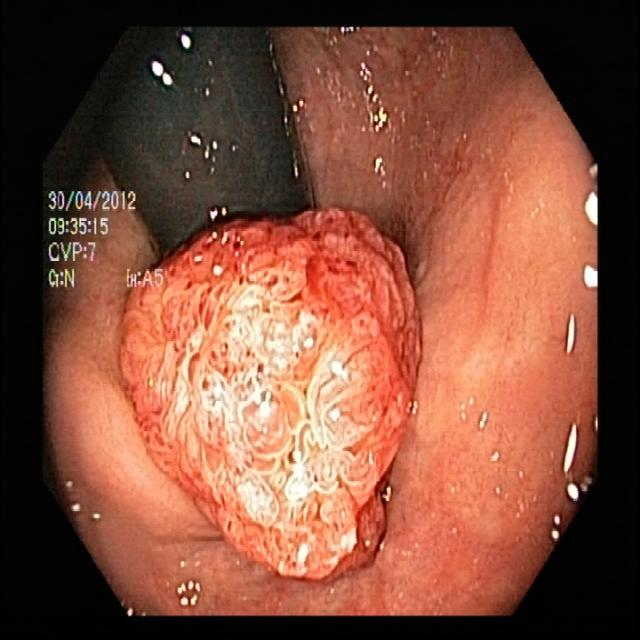Polyps: (106, 204, 433, 571)
